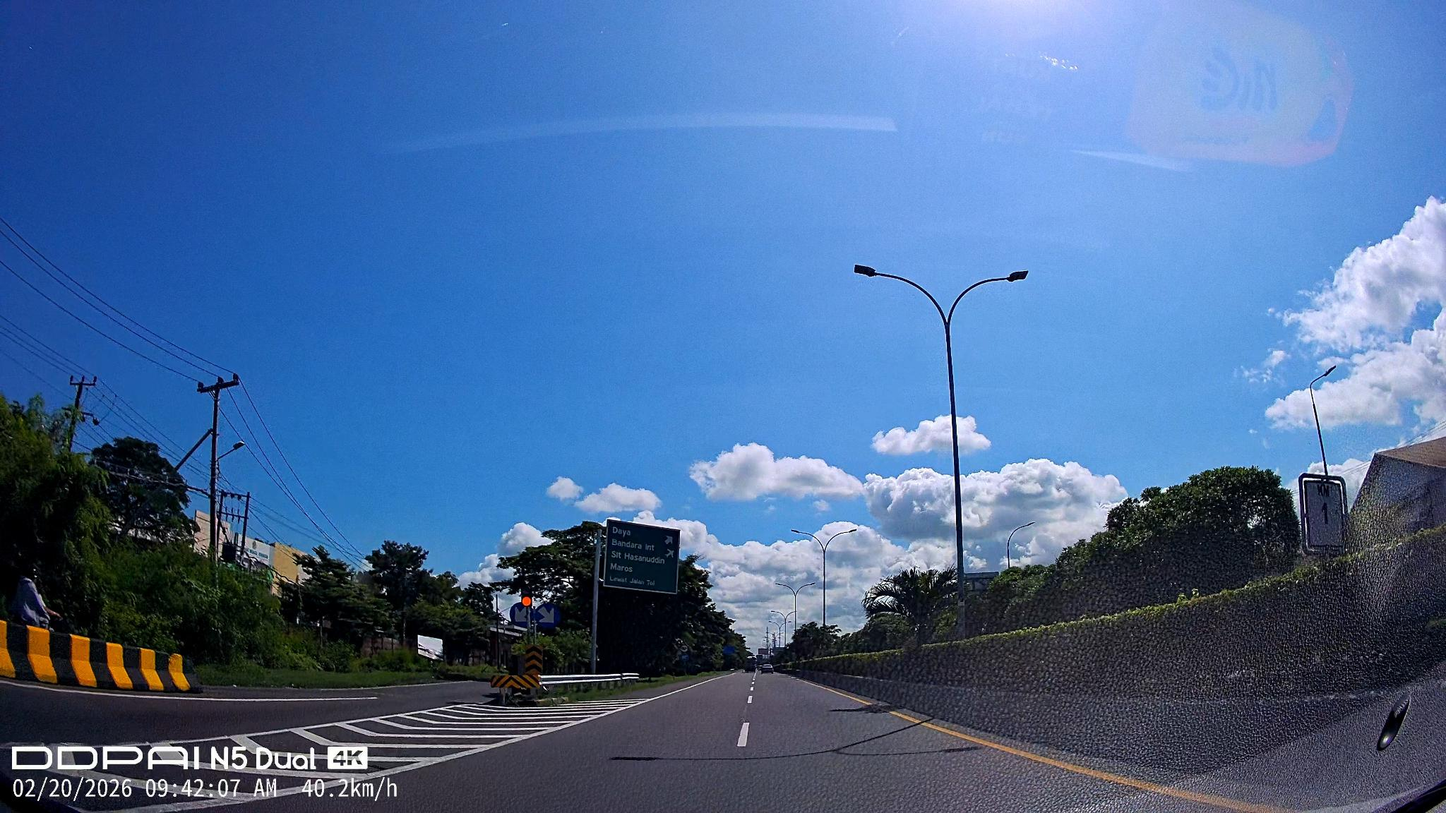rambu_teks: (608, 520, 679, 591)
